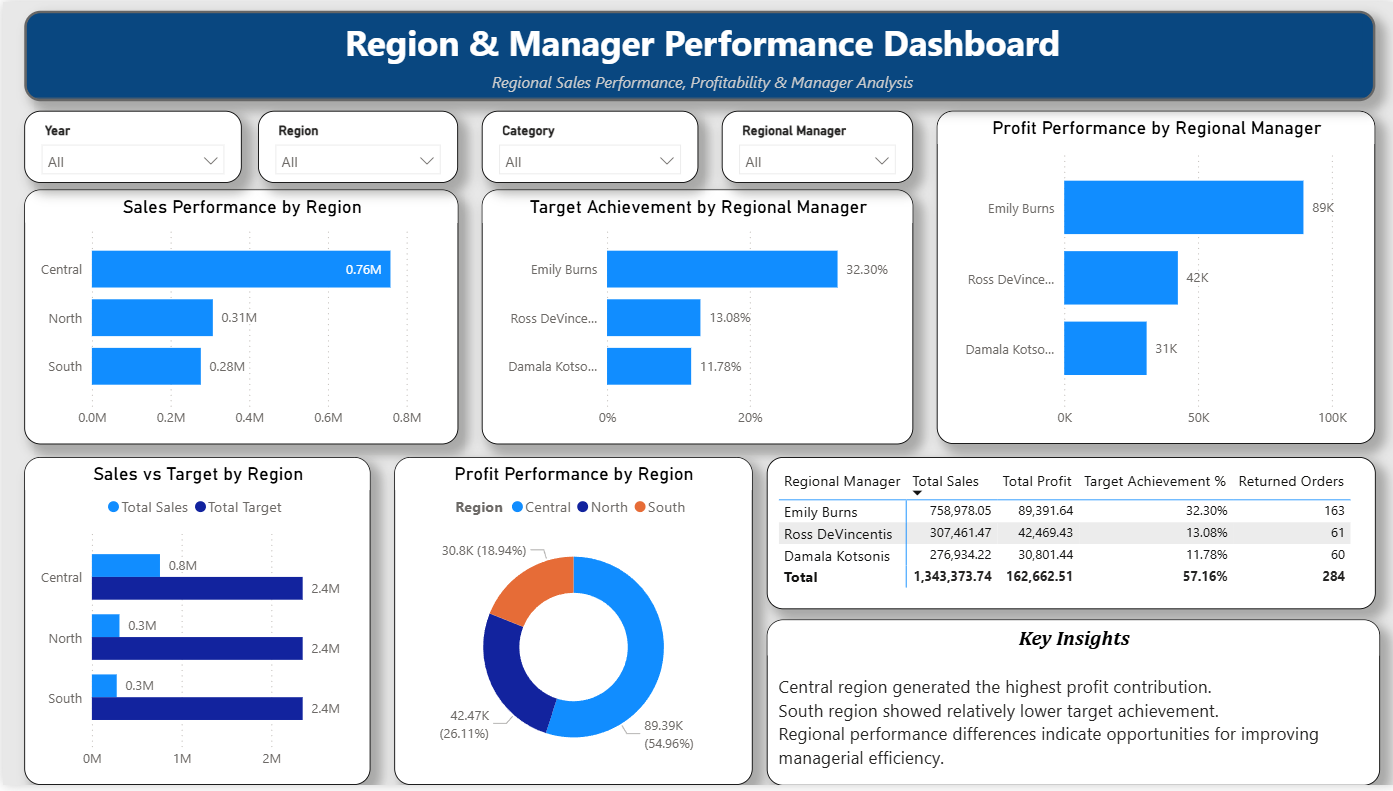

The page's visual inventory and layout, read from the dashboard file:
{"tool":"powerbi","page":{"name":"Region & Manager Performance","canvas":[1280,720],"ordinal":3},"visuals":[{"type":"clusteredBarChart","title":"Sales Performance by Region","fields":{"Y":["MeasureTable.Total Sales"],"Category":["Orders.Region"]},"box":[19.3,172.5,399.3,234],"z":0},{"type":"clusteredBarChart","title":"Profit Performance by Regional Manager","fields":{"Category":["People.People"],"Y":["MeasureTable.Total Profit"]},"box":[859,100.1,403,306.4],"z":1000},{"type":"clusteredBarChart","title":"Target Achievement by Regional Manager","fields":{"Category":["People.People"],"Y":["MeasureTable.Target Achievement %"]},"box":[440.4,172.5,396.9,234],"z":2000},{"type":"clusteredBarChart","title":"Sales vs Target by Region","fields":{"Category":["Orders.Region"],"Y":["MeasureTable.Total Sales","MeasureTable.Total Target"]},"box":[19.3,418.6,318.5,301.6],"z":3000},{"type":"donutChart","title":"Profit Performance by Region","fields":{"Category":["People.Region"],"Y":["MeasureTable.Total Profit"]},"box":[359.5,418.6,329.4,301.6],"z":4000},{"type":"pivotTable","fields":{"Rows":["People.People"],"Values":["MeasureTable.Total Sales","MeasureTable.Total Profit","MeasureTable.Target Achievement %","MeasureTable.Returned Orders"]},"box":[702.1,418.6,559.8,139.9],"z":5000},{"type":"textbox","title":"Key Insights","box":[702.5,567.5,563.8,152.5],"z":6000},{"type":"textbox","title":"Region & Manager Performance Dashboard","box":[19.3,8.4,1242.6,83.2],"z":7000},{"type":"slicer","fields":{"Values":["DateTable.Year"]},"box":[41,100.1,168.9,66.4],"z":8000},{"type":"slicer","fields":{"Values":["People.Region"]},"box":[234,100.1,167.7,66.4],"z":9000},{"type":"slicer","fields":{"Values":["Orders.Category"]},"box":[440.4,100.1,171.3,66.4],"z":10000},{"type":"slicer","fields":{"Values":["People.People"]},"box":[639.4,100.1,156.8,66.4],"z":11000}]}

Visuals, with their boxes in screenshot pixels (x1, y1, x2, y2), scaled from the page's 1280x720 canvas onto the 1393x791 screenshot:
"Sales Performance by Region" clusteredBarChart: {"left": 21, "top": 190, "right": 456, "bottom": 447}
"Profit Performance by Regional Manager" clusteredBarChart: {"left": 935, "top": 110, "right": 1373, "bottom": 447}
"Target Achievement by Regional Manager" clusteredBarChart: {"left": 479, "top": 190, "right": 911, "bottom": 447}
"Sales vs Target by Region" clusteredBarChart: {"left": 21, "top": 460, "right": 368, "bottom": 790}
"Profit Performance by Region" donutChart: {"left": 391, "top": 460, "right": 750, "bottom": 790}
pivotTable - People.People x MeasureTable.Total Sales: {"left": 764, "top": 460, "right": 1373, "bottom": 614}
"Key Insights" textbox: {"left": 765, "top": 623, "right": 1378, "bottom": 790}
"Region & Manager Performance Dashboard" textbox: {"left": 21, "top": 9, "right": 1373, "bottom": 101}
slicer - DateTable.Year: {"left": 45, "top": 110, "right": 228, "bottom": 183}
slicer - People.Region: {"left": 255, "top": 110, "right": 437, "bottom": 183}
slicer - Orders.Category: {"left": 479, "top": 110, "right": 666, "bottom": 183}
slicer - People.People: {"left": 696, "top": 110, "right": 866, "bottom": 183}
